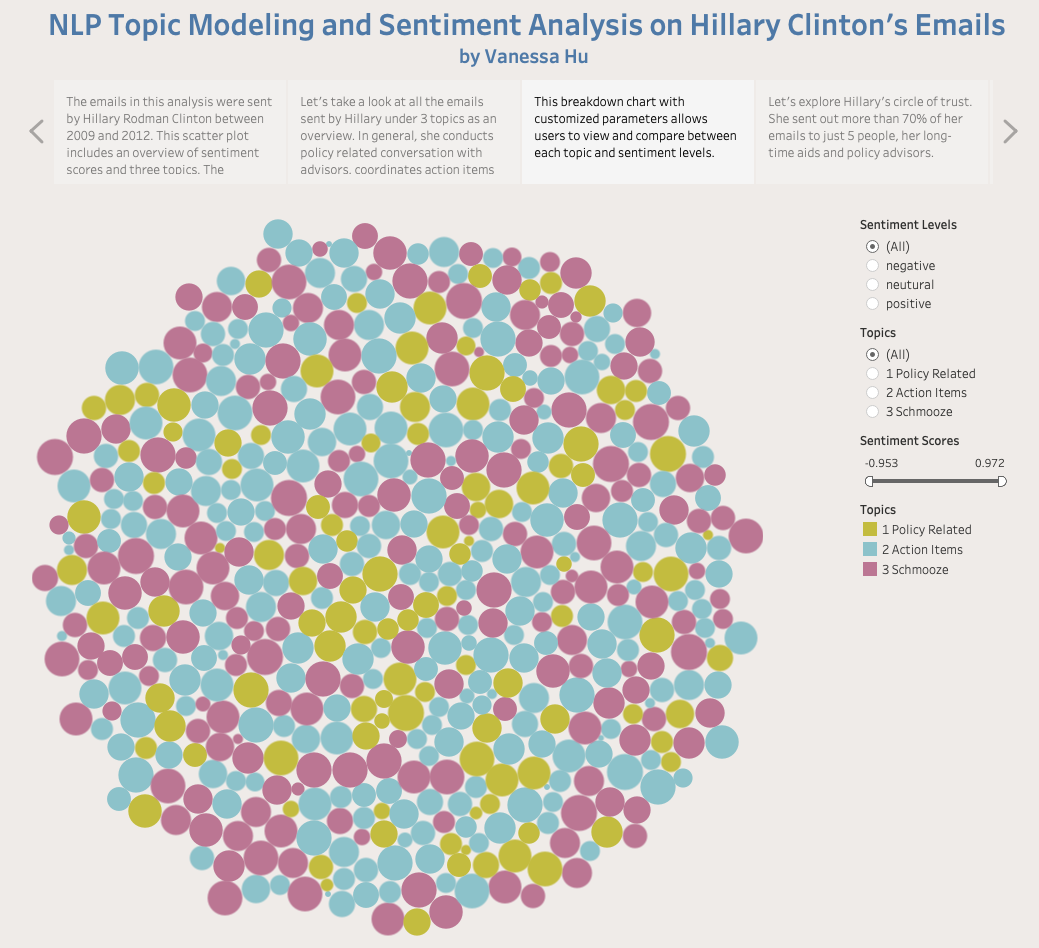

This screenshot's page, from the dashboard's own definition file:
{"tool":"tableau","page":{"name":"Emails Sent by Hillary Dashboard","canvas":[1000,800],"ordinal":1},"visuals":[{"type":"worksheet","box":[0,0,1000,800]},{"type":"worksheet","param":"horz","box":[8,8,984,784]},{"type":"worksheet","box":[8,8,824,784]},{"type":"worksheet","title":"NLP Hillary Cliton's Emails on Topic Modeling and Sentiment Analysis","mark":"Circle","box":[8,8,824,784]},{"type":"worksheet","param":"vert","box":[832,8,160,784]},{"type":"worksheet","title":"NLP Hillary Cliton's Emails on Topic Modeling and Sentiment Analysis","mark":"Circle","param":"[federated.0xkhoce0b1q61t140bgjl0zeisxr].[none:pred_nltk:nk]","box":[832,8,160,108]},{"type":"worksheet","title":"NLP Hillary Cliton's Emails on Topic Modeling and Sentiment Analysis","mark":"Circle","param":"[federated.0xkhoce0b1q61t140bgjl0zeisxr].[none:topic:nk]","box":[832,116,160,108]},{"type":"worksheet","title":"NLP Hillary Cliton's Emails on Topic Modeling and Sentiment Analysis","mark":"Circle","param":"[federated.0xkhoce0b1q61t140bgjl0zeisxr].[sum:scores_nltk:qk]","box":[832,224,160,69]},{"type":"worksheet","title":"NLP Hillary Cliton's Emails on Topic Modeling and Sentiment Analysis","mark":"Circle","param":"[federated.0xkhoce0b1q61t140bgjl0zeisxr].[none:topic:nk]","box":[832,293,160,86]}]}

Visuals, with their boxes on the page's 1000x800 design canvas (x1, y1, x2, y2). These are canvas units, not pixel positions in the 1039x948 screenshot, which may show the page scaled, cropped or inside an application window:
worksheet: BBox(0, 0, 1000, 800)
worksheet: BBox(8, 8, 992, 792)
worksheet: BBox(8, 8, 832, 792)
"NLP Hillary Cliton's Emails on Topic Modeling and Sentiment Analysis" worksheet (Circle marks): BBox(8, 8, 832, 792)
worksheet: BBox(832, 8, 992, 792)
"NLP Hillary Cliton's Emails on Topic Modeling and Sentiment Analysis" worksheet (Circle marks): BBox(832, 8, 992, 116)
"NLP Hillary Cliton's Emails on Topic Modeling and Sentiment Analysis" worksheet (Circle marks): BBox(832, 116, 992, 224)
"NLP Hillary Cliton's Emails on Topic Modeling and Sentiment Analysis" worksheet (Circle marks): BBox(832, 224, 992, 293)
"NLP Hillary Cliton's Emails on Topic Modeling and Sentiment Analysis" worksheet (Circle marks): BBox(832, 293, 992, 379)
